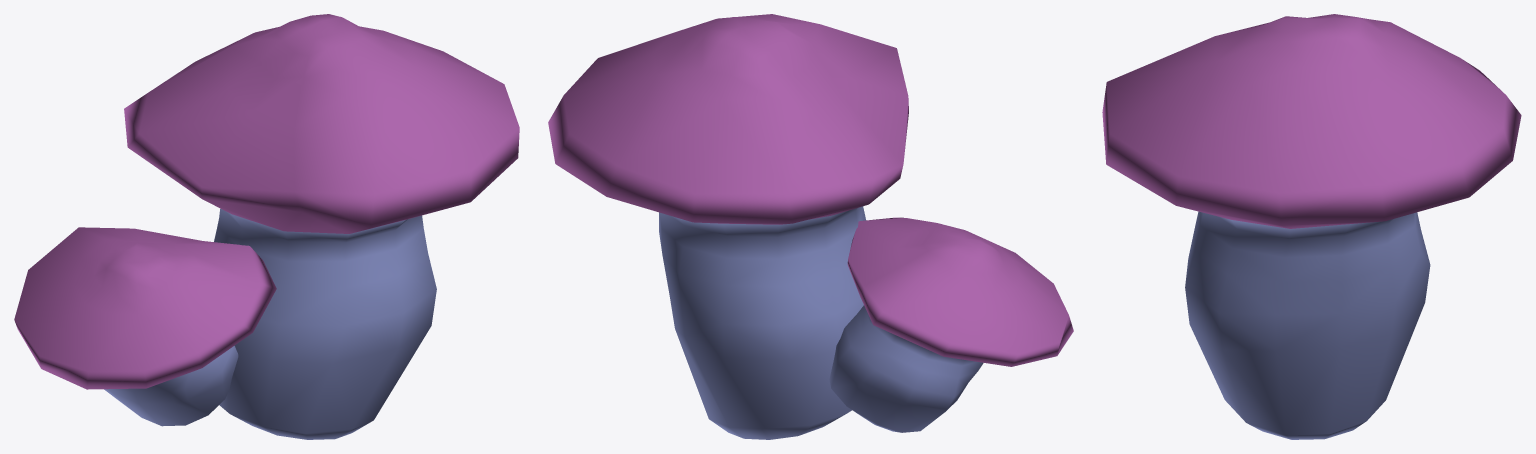
The model's file is mushroom_2.fbx.
3 renders of one model, left to right at view 1: azimuth 30°, elevation 25°; view 2: azimuth 150°, elevation 25°; view 3: azimuth 270°, elevation 25°, orthographic. The views are drawn at different scales.
Visible parts, largest first — view 1: muschoom_growing; view 2: muschoom_growing; view 3: muschoom_growing.
Boxes of the visible parts, x1=… form: muschoom_growing: x1=14, y1=14, x2=519, y2=439; muschoom_growing: x1=548, y1=14, x2=1073, y2=439; muschoom_growing: x1=1102, y1=14, x2=1521, y2=439.
Bounding box in the file's own units: 2.33 × 1.86 × 1.72.
